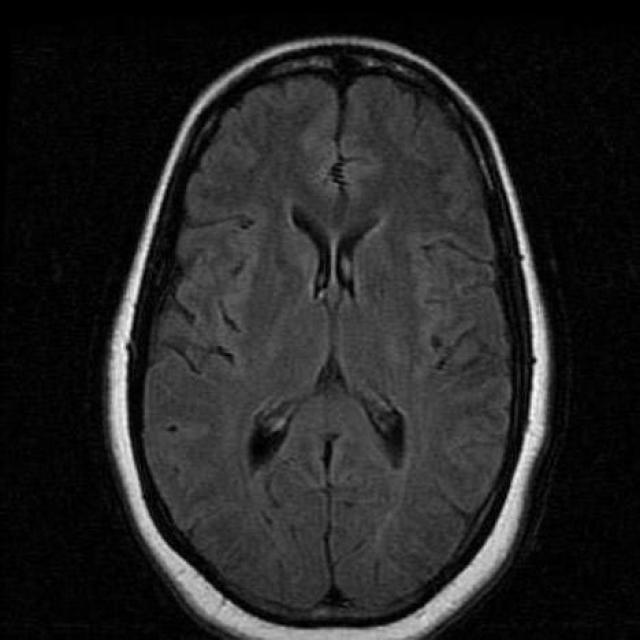notumor: (108, 39, 550, 636)
